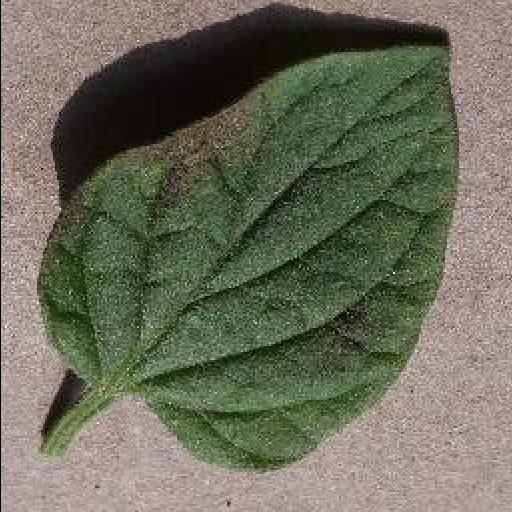disease_tomato: (36, 45, 464, 475)
